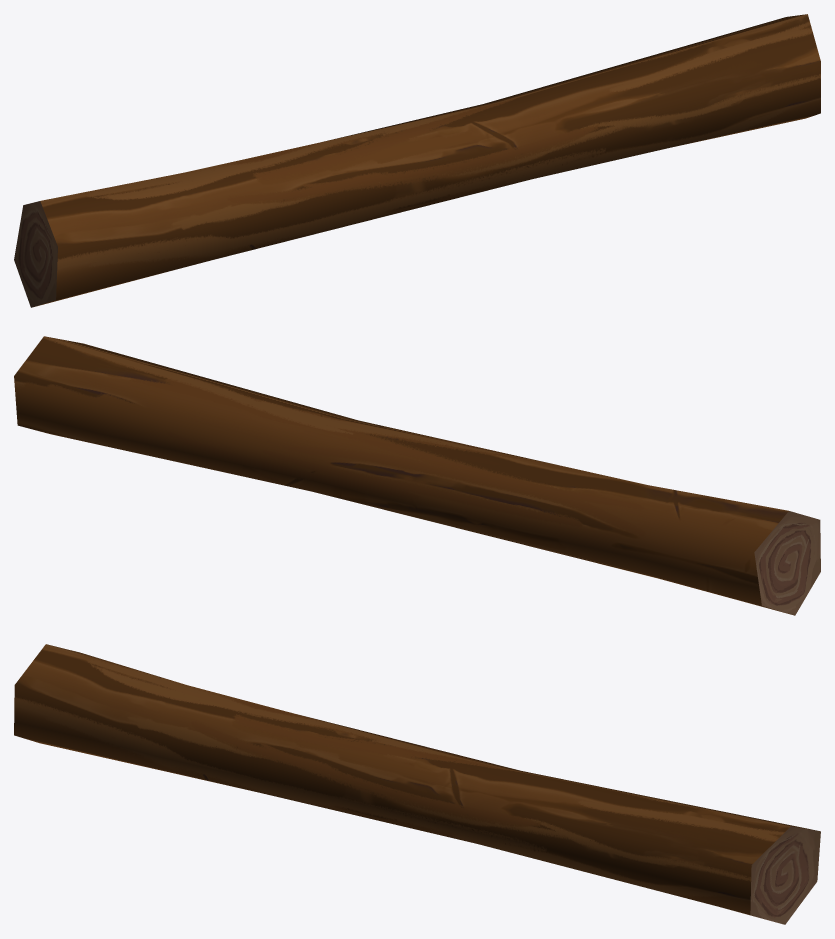
Rendered from SM_PROP_treetrunk_battle_02.fbx.
3 renders of one model, top to bottom at view 1: azimuth 30°, elevation 25°; view 2: azimuth 150°, elevation 25°; view 3: azimuth 330°, elevation 25°, orthographic. The views are drawn at different scales.
Visible parts, largest first — view 1: SM_PROP_treetrunk_battle_02; view 2: SM_PROP_treetrunk_battle_02; view 3: SM_PROP_treetrunk_battle_02.
Part boxes in pixels (x1,y1,x2,y2): SM_PROP_treetrunk_battle_02: [14, 14, 820, 307]; SM_PROP_treetrunk_battle_02: [14, 336, 820, 615]; SM_PROP_treetrunk_battle_02: [14, 644, 820, 924].
Size of the model in its own units: 493 by 63.72 by 59.96.
